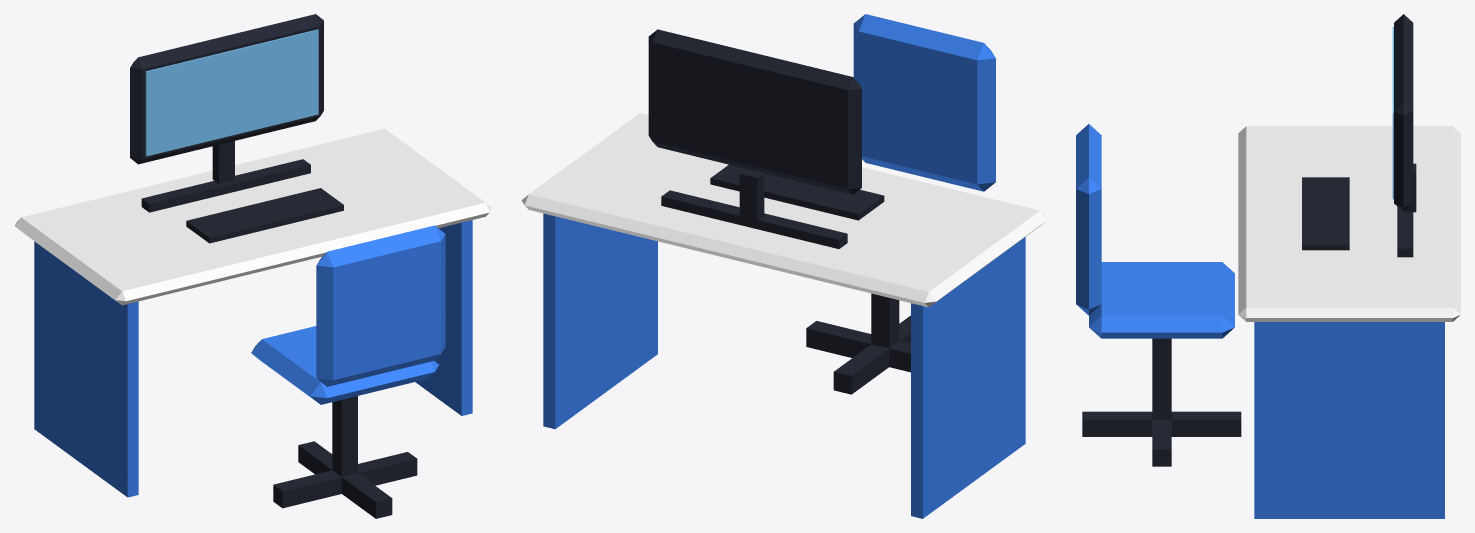
File: office-desk.glb
3 views of the same model, side by side, from view 1: azimuth 30°, elevation 25°; view 2: azimuth 150°, elevation 25°; view 3: azimuth 270°, elevation 25° (orthographic). The views are drawn at different scales.
Visible parts, largest first — view 1: office_desk; view 2: office_desk; view 3: office_desk.
Boxes of the visible parts, <box> form: office_desk: <box>14,14,492,518</box>; office_desk: <box>521,14,1047,518</box>; office_desk: <box>1076,14,1460,518</box>.
Bounding box in the file's own units: 1.4 × 1.3 × 1.21.
